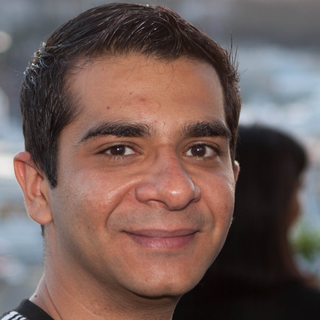eye: (91, 136, 144, 163), (178, 138, 225, 166)
